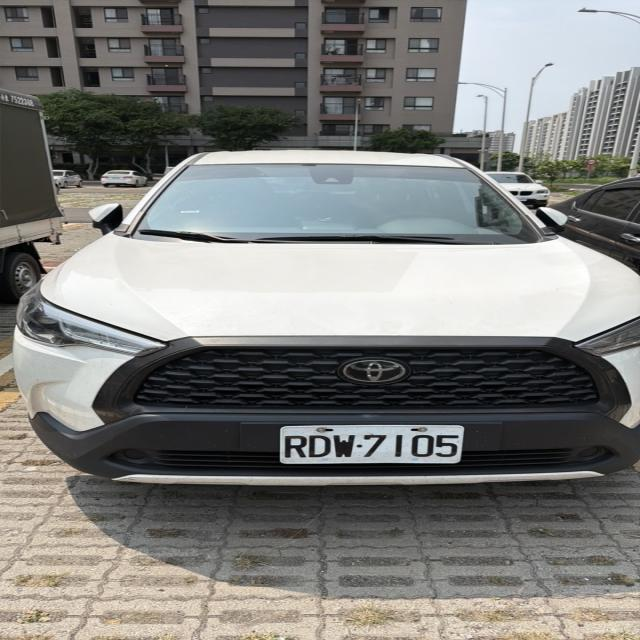license plate: (280, 425, 464, 464)
